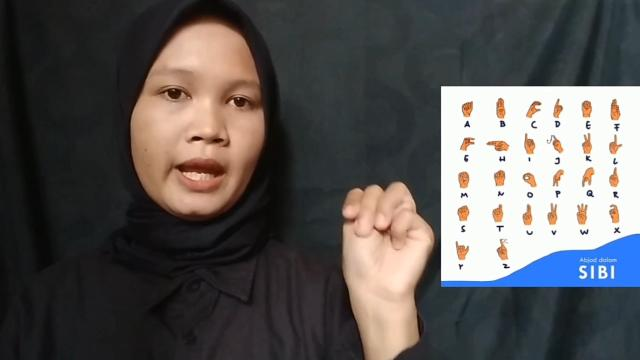M: (339, 180, 437, 292)
